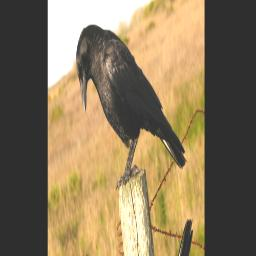Crow: (73, 0, 188, 232)
